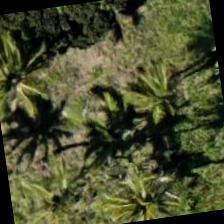Kelapa_Sawit: (113, 46, 214, 148), (14, 149, 116, 223), (88, 153, 188, 223), (0, 25, 63, 124)
